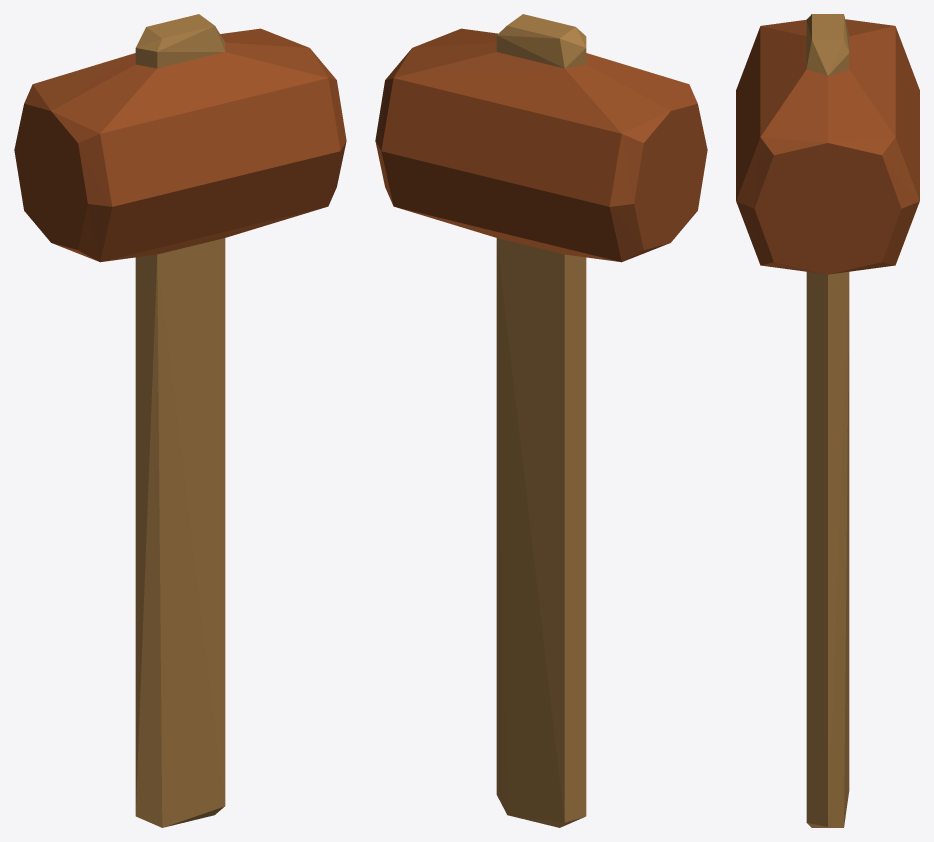
The model's file is hammer_3.FBX.
3 renders of one model, left to right at view 1: azimuth 30°, elevation 25°; view 2: azimuth 150°, elevation 25°; view 3: azimuth 270°, elevation 25°, orthographic.
Visible parts, largest first — view 1: hamer_wood_low_poly; view 2: hamer_wood_low_poly; view 3: hamer_wood_low_poly.
Part boxes in pixels (x1,y1,x2,y2): hamer_wood_low_poly: [14, 14, 346, 827]; hamer_wood_low_poly: [375, 14, 707, 827]; hamer_wood_low_poly: [736, 14, 919, 827].
Bounding box in the file's own units: 45.62 × 133 × 28.09.
1 material, 1 textured.
